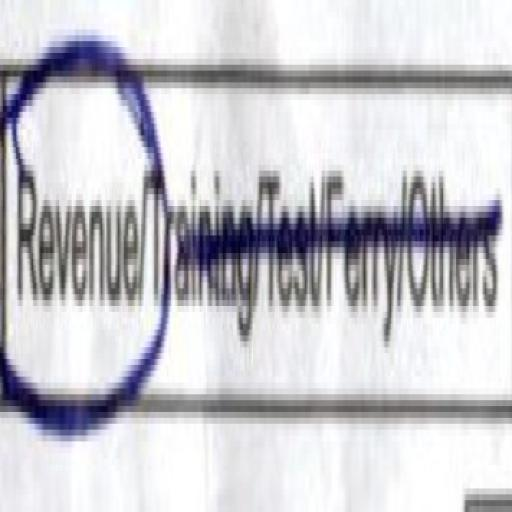check: (0, 2, 146, 450)
